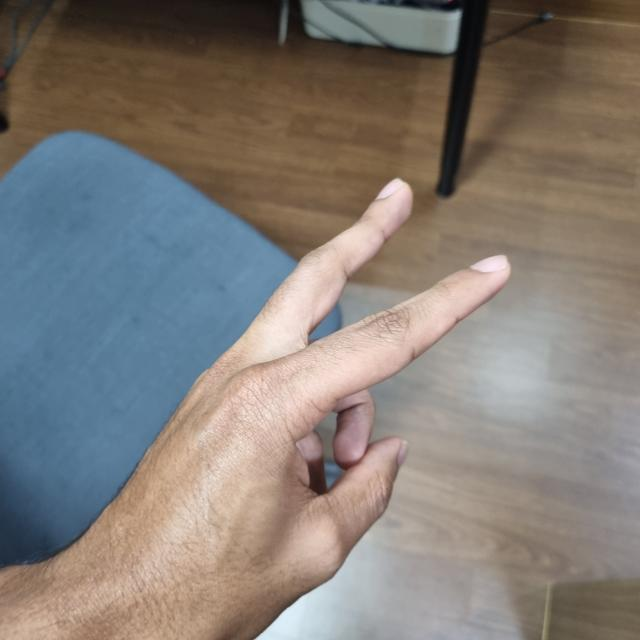Scissors: (61, 184, 506, 639)
